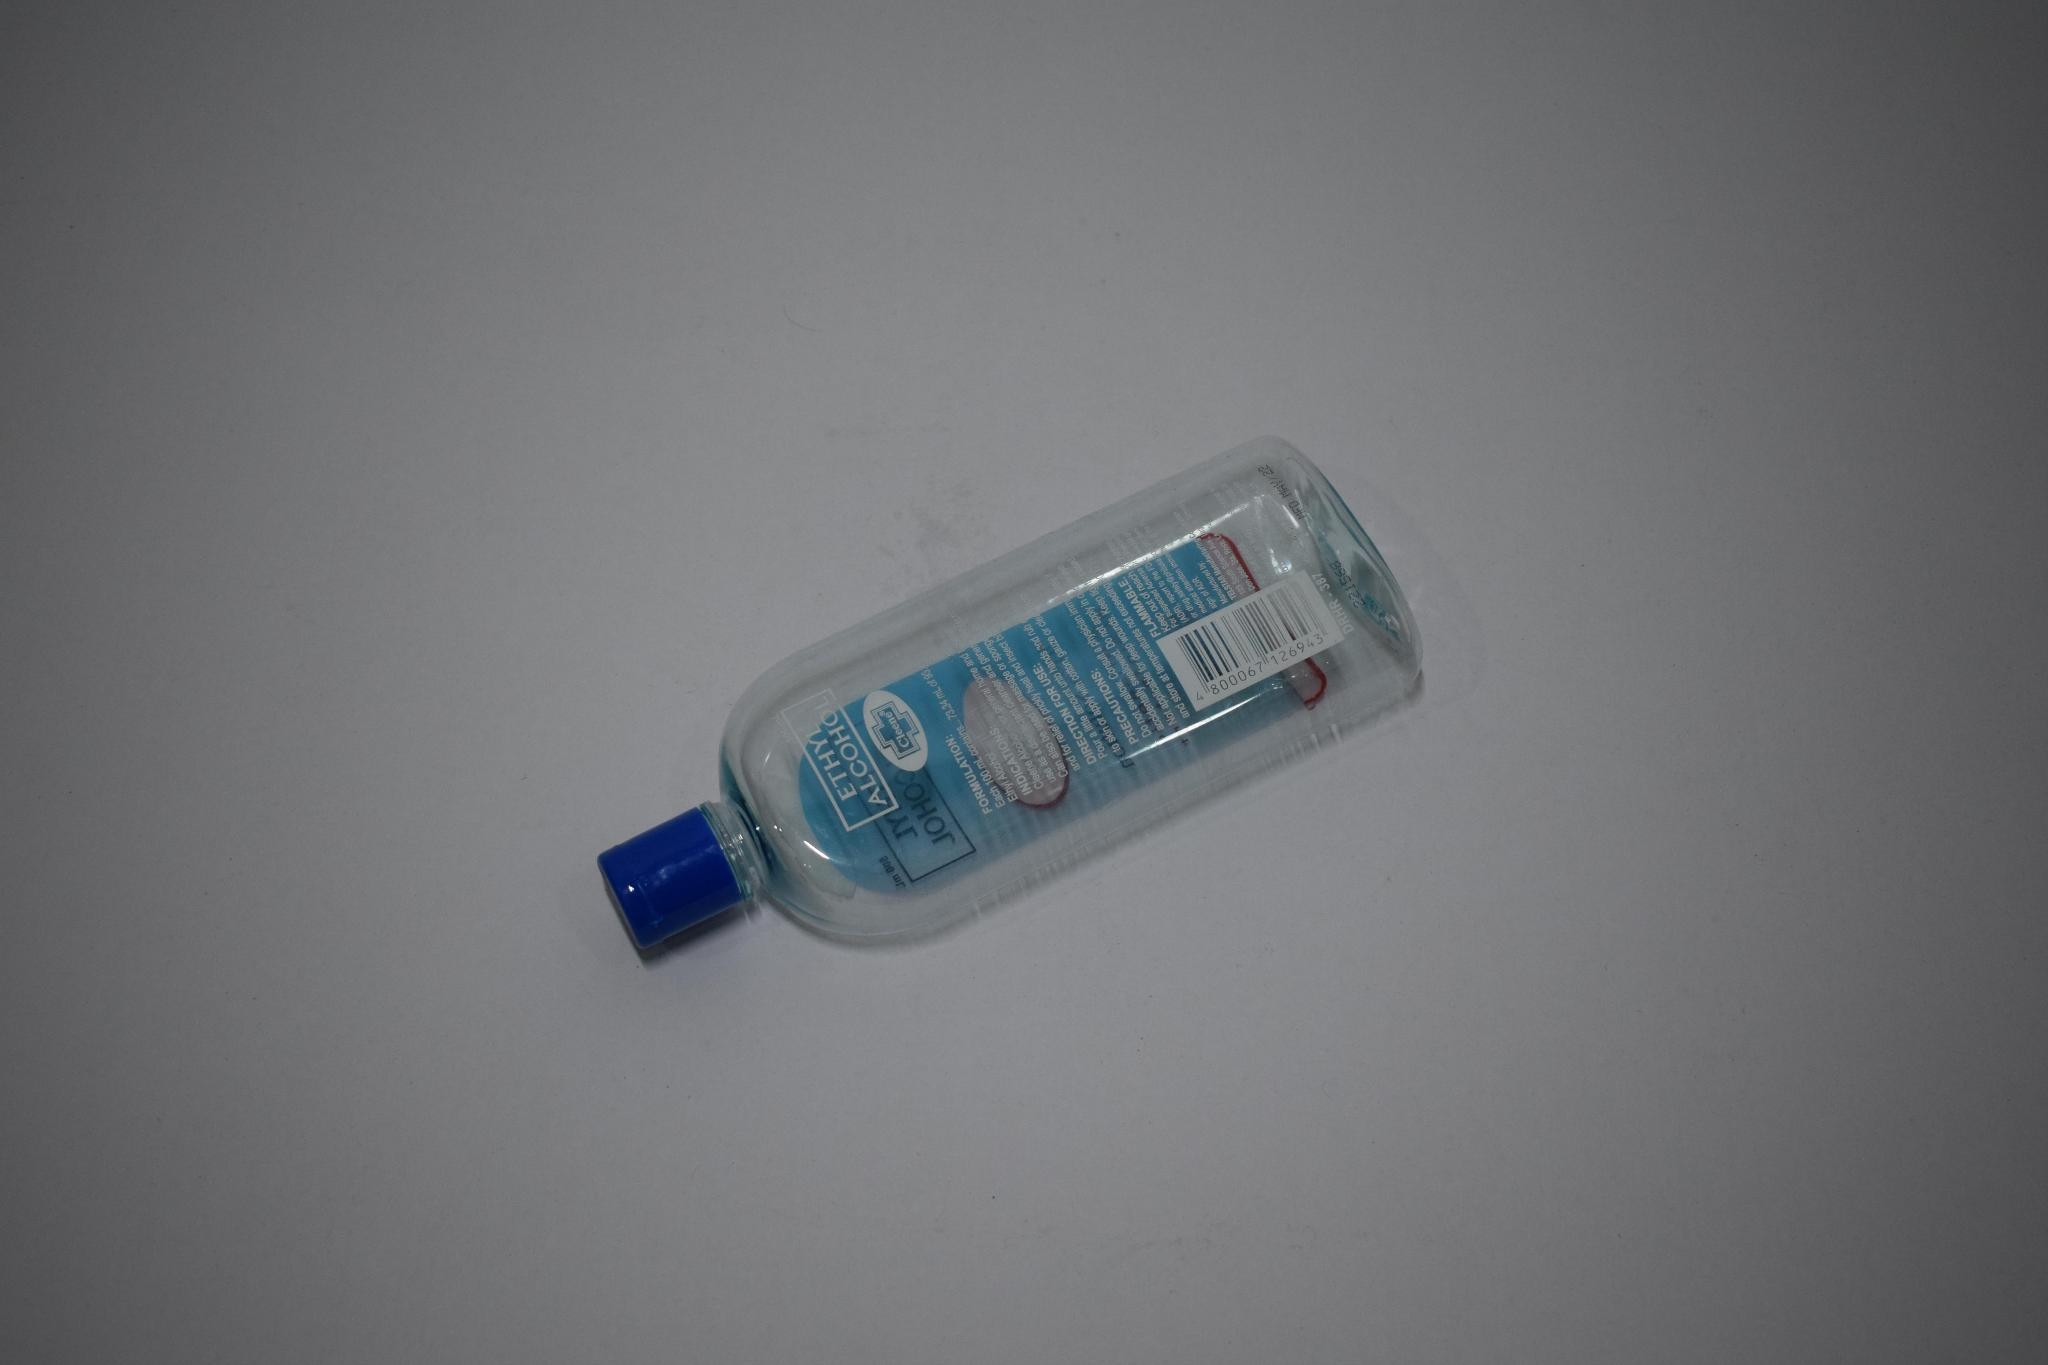bottle: (566, 428, 1501, 990)
